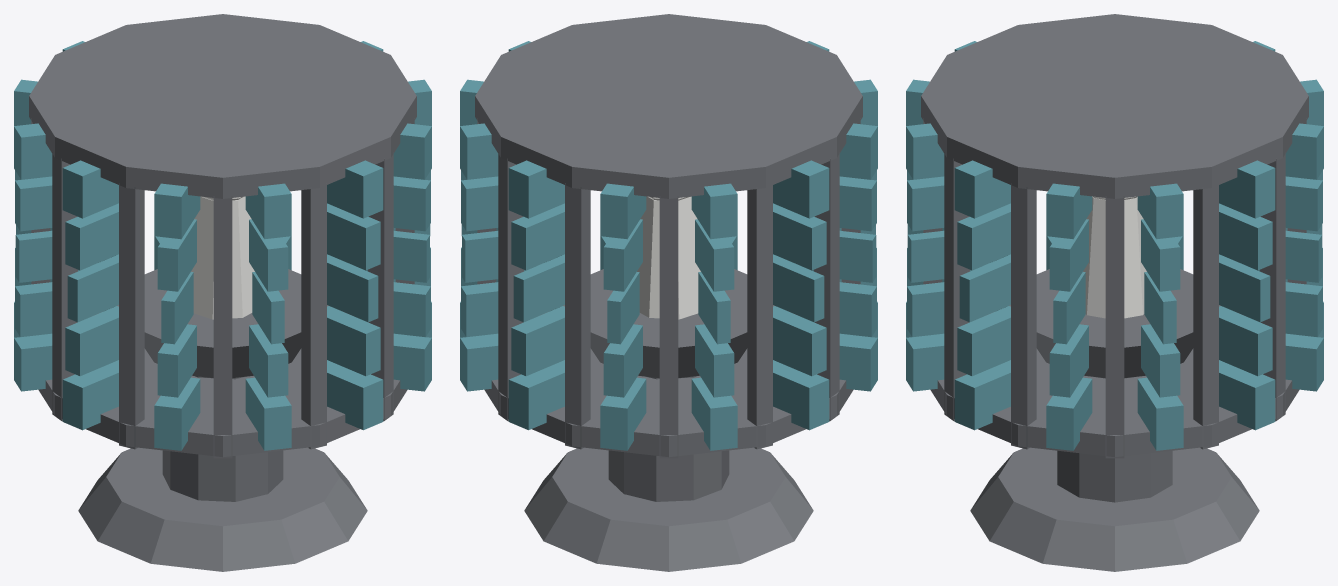
The model's file is lighthouse_lamp_and_lens.glb.
The picture shows the model from 3 angles, left to right: view 1: azimuth 30°, elevation 25°; view 2: azimuth 150°, elevation 25°; view 3: azimuth 270°, elevation 25°; orthographic projection.
Parts seen in each view (by area): view 1: lens/iron, lens/sea, lighthouse-lamp-and-lens; view 2: lens/iron, lens/sea, lighthouse-lamp-and-lens; view 3: lens/iron, lens/sea, lighthouse-lamp-and-lens.
Boxes of the visible parts, x1,y1,x2,y2 form: lens/iron: (29, 14, 416, 458); lens/sea: (14, 41, 431, 450); lighthouse-lamp-and-lens: (78, 196, 367, 571); lens/iron: (475, 14, 862, 458); lens/sea: (460, 41, 877, 450); lighthouse-lamp-and-lens: (524, 196, 813, 571); lens/iron: (921, 14, 1308, 458); lens/sea: (906, 41, 1323, 450); lighthouse-lamp-and-lens: (970, 196, 1259, 571).
Bounding box in the file's own units: 1.79 × 1.96 × 1.79.
